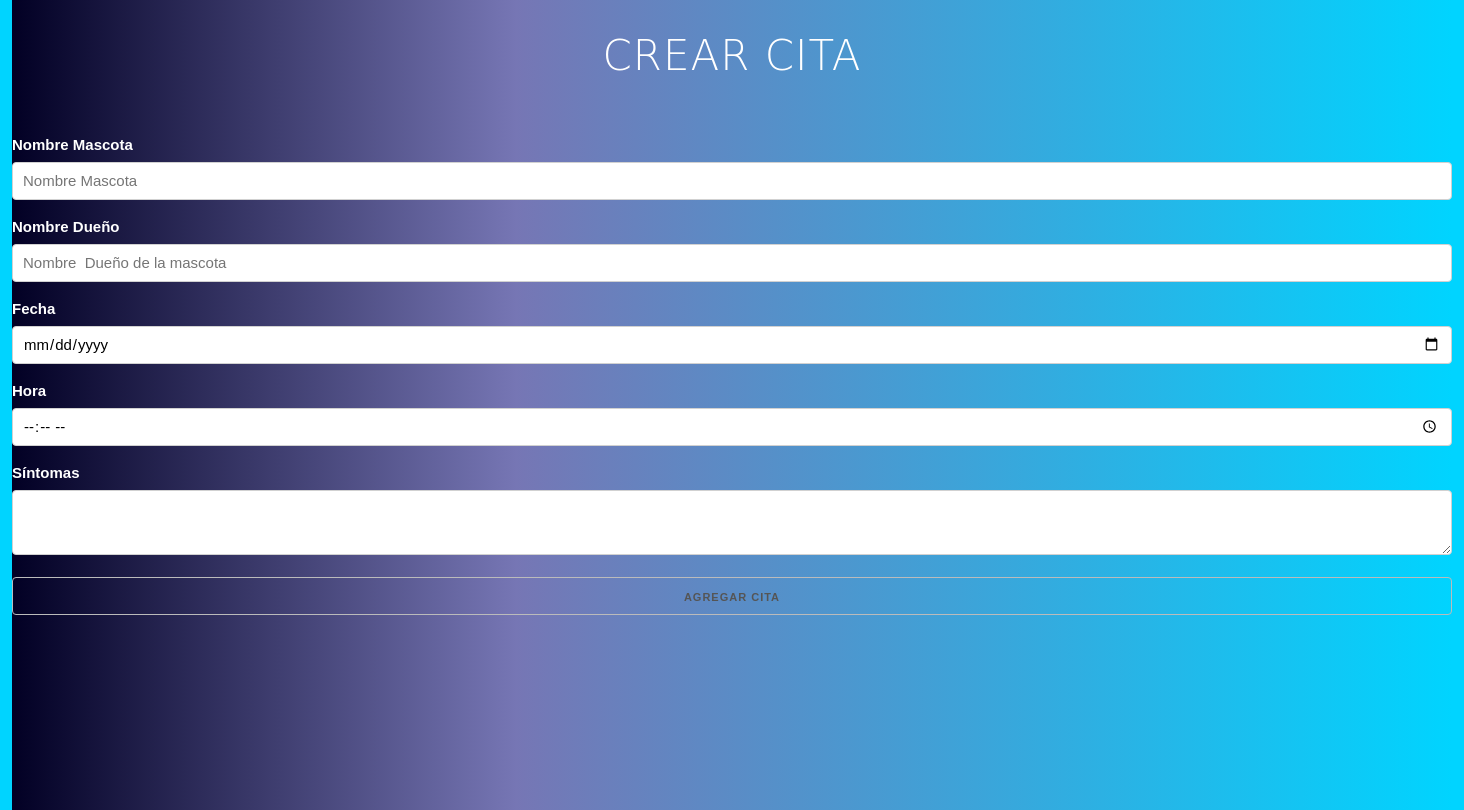
Test case: <Formulario /> Validación de Formulario
The image size is (1464, 810).
Click en boton de submit
Click the button with test id "btn-submit": (732, 596) [12,576,1452,614]
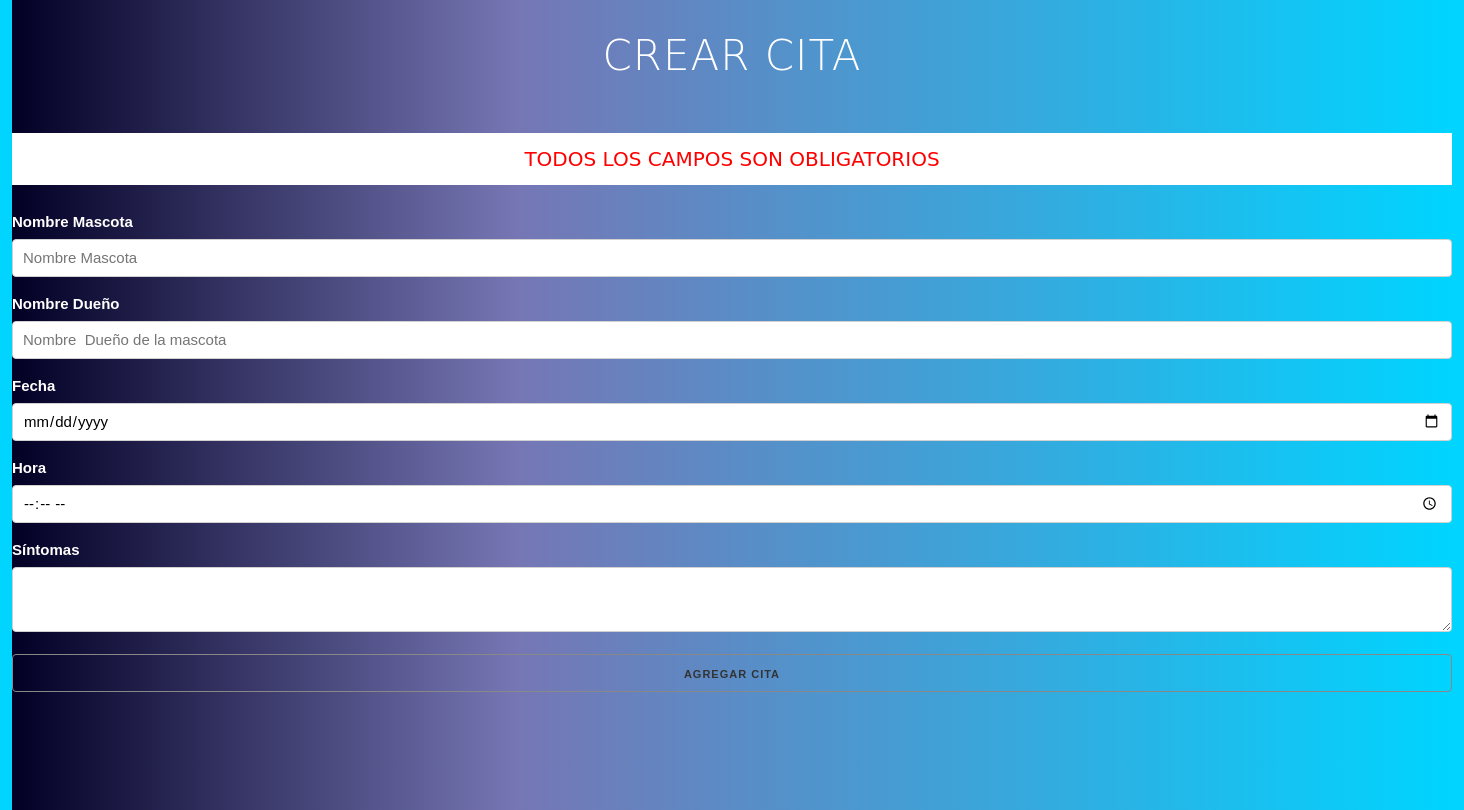
Check: the text "Todos los campos son obligatorios" is shown, box [12,132,1452,184]
Check: the text with test id "alerta" reads "Todos los campos son obligatorios", box [524,146,940,170]
